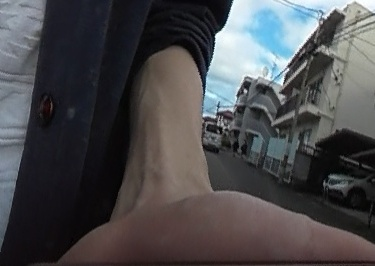person: (231, 138, 240, 156), (240, 140, 249, 157)
